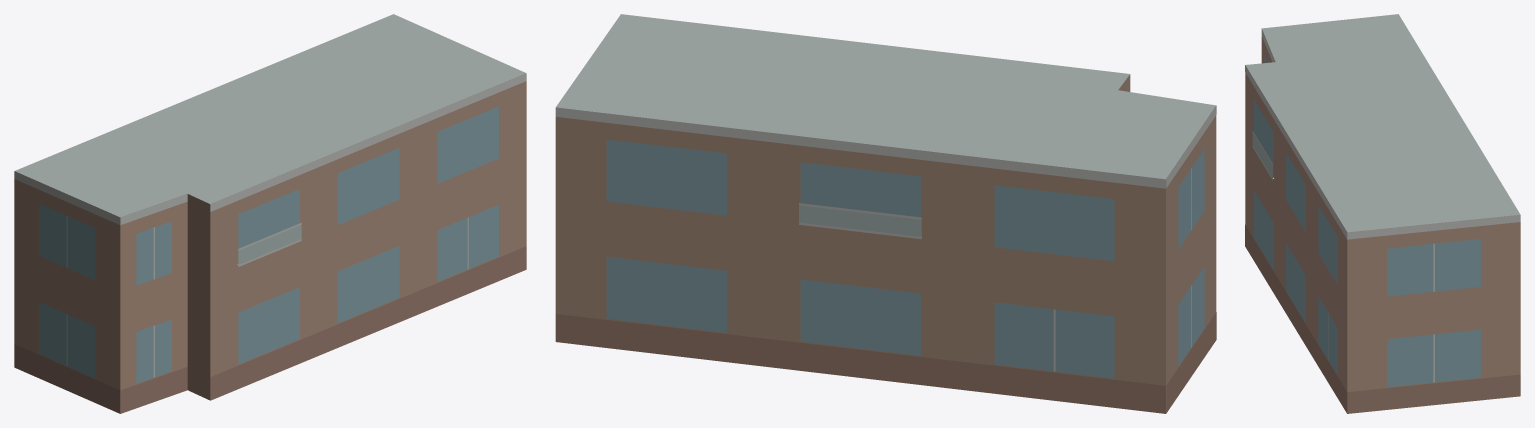
Rendered from survey-upis-32558021.glb.
3 views of the same model, side by side, from view 1: azimuth 30°, elevation 25°; view 2: azimuth 150°, elevation 25°; view 3: azimuth 270°, elevation 25° (orthographic). The views are drawn at different scales.
Visible parts, largest first — view 1: survey-upis-32558021.tmp; view 2: survey-upis-32558021.tmp; view 3: survey-upis-32558021.tmp.
Boxes of the visible parts, x1,y1,x2,y2 form: survey-upis-32558021.tmp: (14,14,526,413); survey-upis-32558021.tmp: (555,14,1216,413); survey-upis-32558021.tmp: (1245,14,1520,413).
Size of the model in its own units: 15.75 by 6.1 by 8.4.
